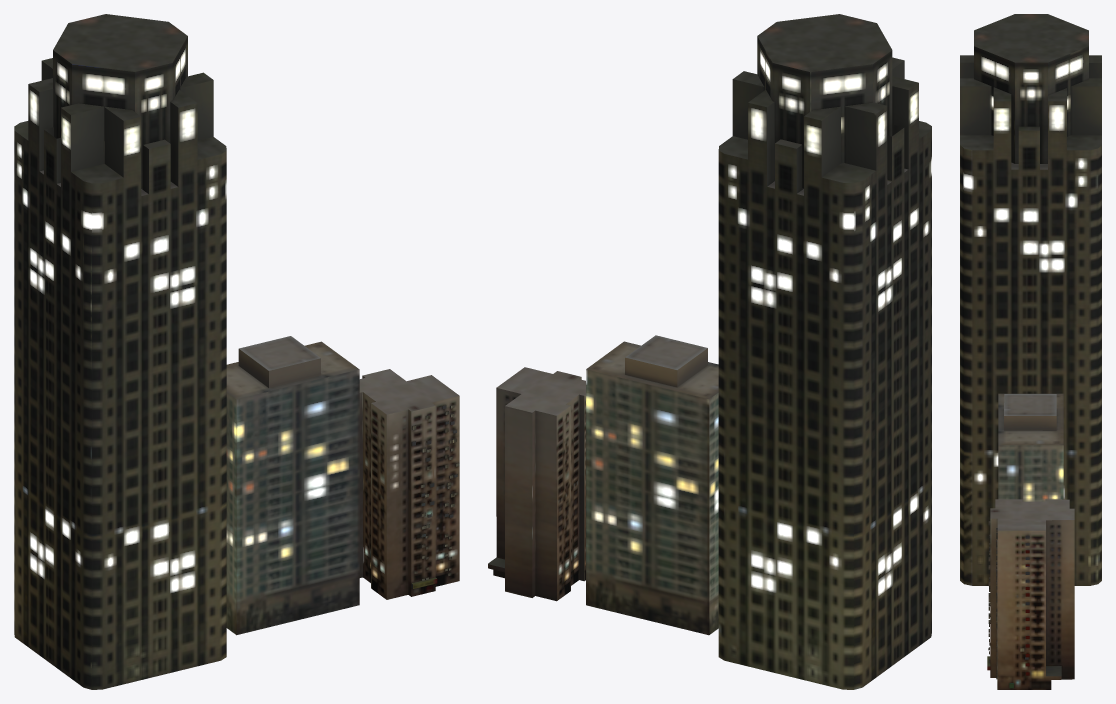
File: tokyo-zakkyo-f.glb
3 renders of one model, left to right at view 1: azimuth 30°, elevation 25°; view 2: azimuth 150°, elevation 25°; view 3: azimuth 270°, elevation 25°, orthographic. The views are drawn at different scales.
Parts seen in each view (by area): view 1: Clone of BACKGROUND_BUILDING_2.008_BACKGROUND_BUILDING_2_0, Clone of BACKGROUND_BUILDING_2.003_BACKGROUND_BUILDING_2_0, Clone of BACKGROUND_BUILDING_2.006_BACKGROUND_BUILDING_2_0; view 2: Clone of BACKGROUND_BUILDING_2.008_BACKGROUND_BUILDING_2_0, Clone of BACKGROUND_BUILDING_2.003_BACKGROUND_BUILDING_2_0, Clone of BACKGROUND_BUILDING_2.006_BACKGROUND_BUILDING_2_0; view 3: Clone of BACKGROUND_BUILDING_2.008_BACKGROUND_BUILDING_2_0, Clone of BACKGROUND_BUILDING_2.006_BACKGROUND_BUILDING_2_0, Clone of BACKGROUND_BUILDING_2.003_BACKGROUND_BUILDING_2_0.
Part boxes in pixels (x1,y1,x2,y2): Clone of BACKGROUND_BUILDING_2.008_BACKGROUND_BUILDING_2_0: (14, 14, 226, 689); Clone of BACKGROUND_BUILDING_2.003_BACKGROUND_BUILDING_2_0: (226, 336, 359, 635); Clone of BACKGROUND_BUILDING_2.006_BACKGROUND_BUILDING_2_0: (359, 369, 459, 599); Clone of BACKGROUND_BUILDING_2.008_BACKGROUND_BUILDING_2_0: (718, 14, 931, 689); Clone of BACKGROUND_BUILDING_2.003_BACKGROUND_BUILDING_2_0: (586, 335, 718, 635); Clone of BACKGROUND_BUILDING_2.006_BACKGROUND_BUILDING_2_0: (488, 367, 585, 601); Clone of BACKGROUND_BUILDING_2.008_BACKGROUND_BUILDING_2_0: (960, 14, 1101, 585); Clone of BACKGROUND_BUILDING_2.006_BACKGROUND_BUILDING_2_0: (987, 499, 1074, 689); Clone of BACKGROUND_BUILDING_2.003_BACKGROUND_BUILDING_2_0: (998, 393, 1063, 501).
Size of the model in its own units: 123 by 181 by 44.83.
1 material, 1 textured.
